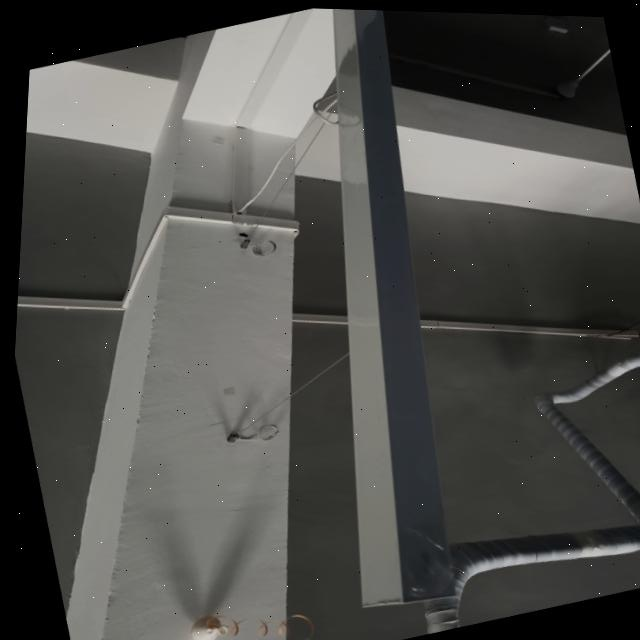fluorescent tube: (195, 5, 535, 633)
